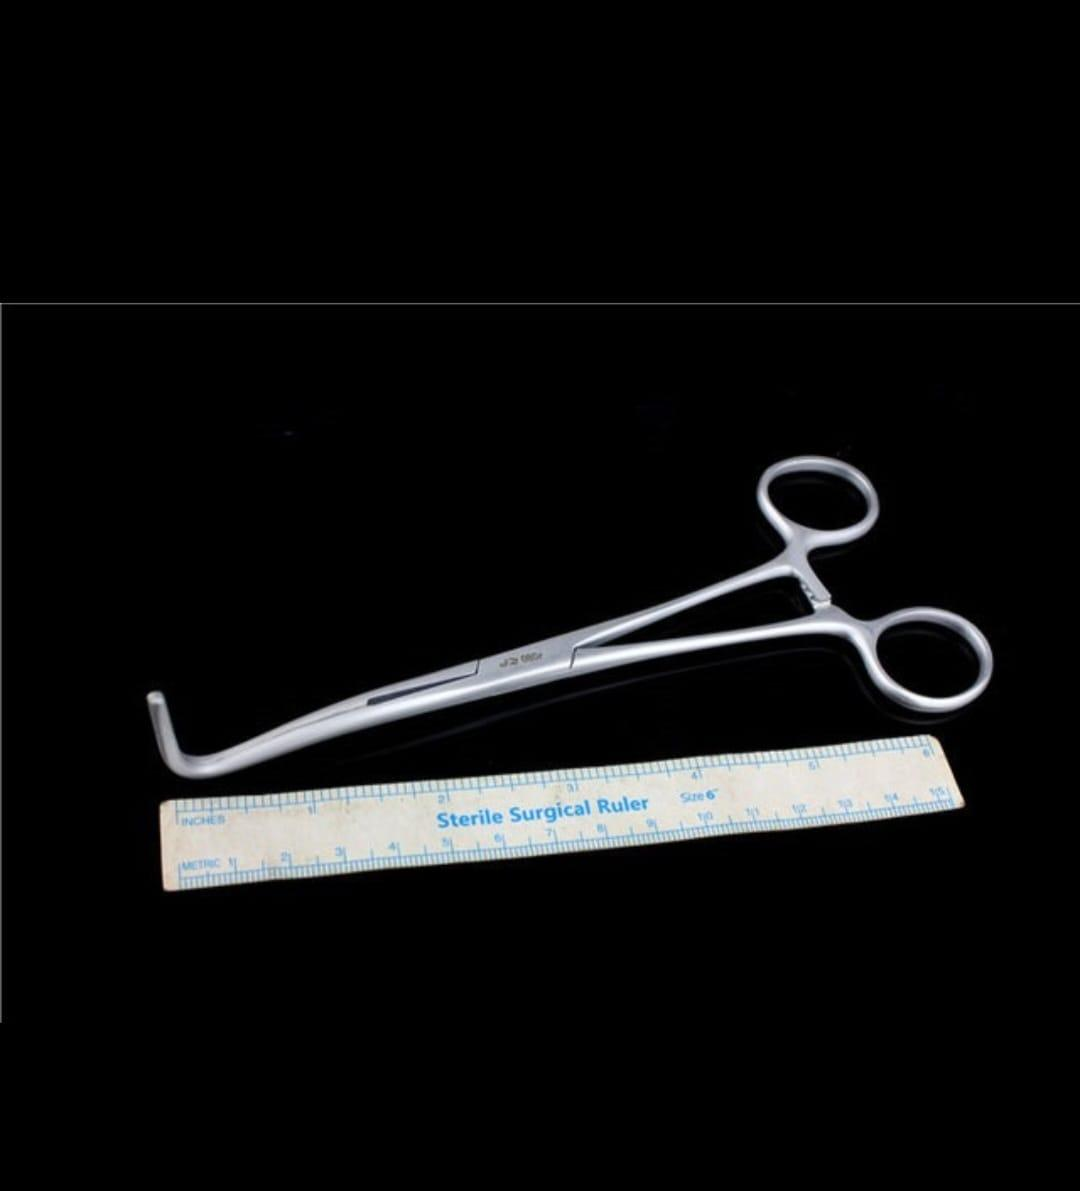Rectangle Cholecystectomy Forceps: (148, 440, 1005, 800)
